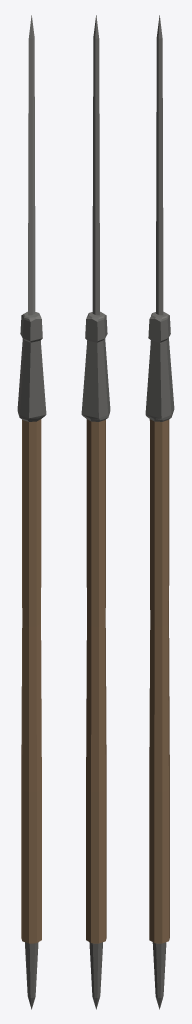
File: SM_pwe_rome_javelin_02.fbx
3 views of the same model, side by side, from view 1: azimuth 30°, elevation 25°; view 2: azimuth 150°, elevation 25°; view 3: azimuth 330°, elevation 25° (orthographic).
Parts seen in each view (by area): view 1: SM_pwe_rome_javelin_02; view 2: SM_pwe_rome_javelin_02; view 3: SM_pwe_rome_javelin_02.
Part boxes in pixels (box(x1,y1,x2,y2)): SM_pwe_rome_javelin_02: box(17, 15, 46, 1009); SM_pwe_rome_javelin_02: box(81, 15, 110, 1009); SM_pwe_rome_javelin_02: box(145, 15, 174, 1009).
Size of the model in its own units: 6.3 by 248 by 5.83.
